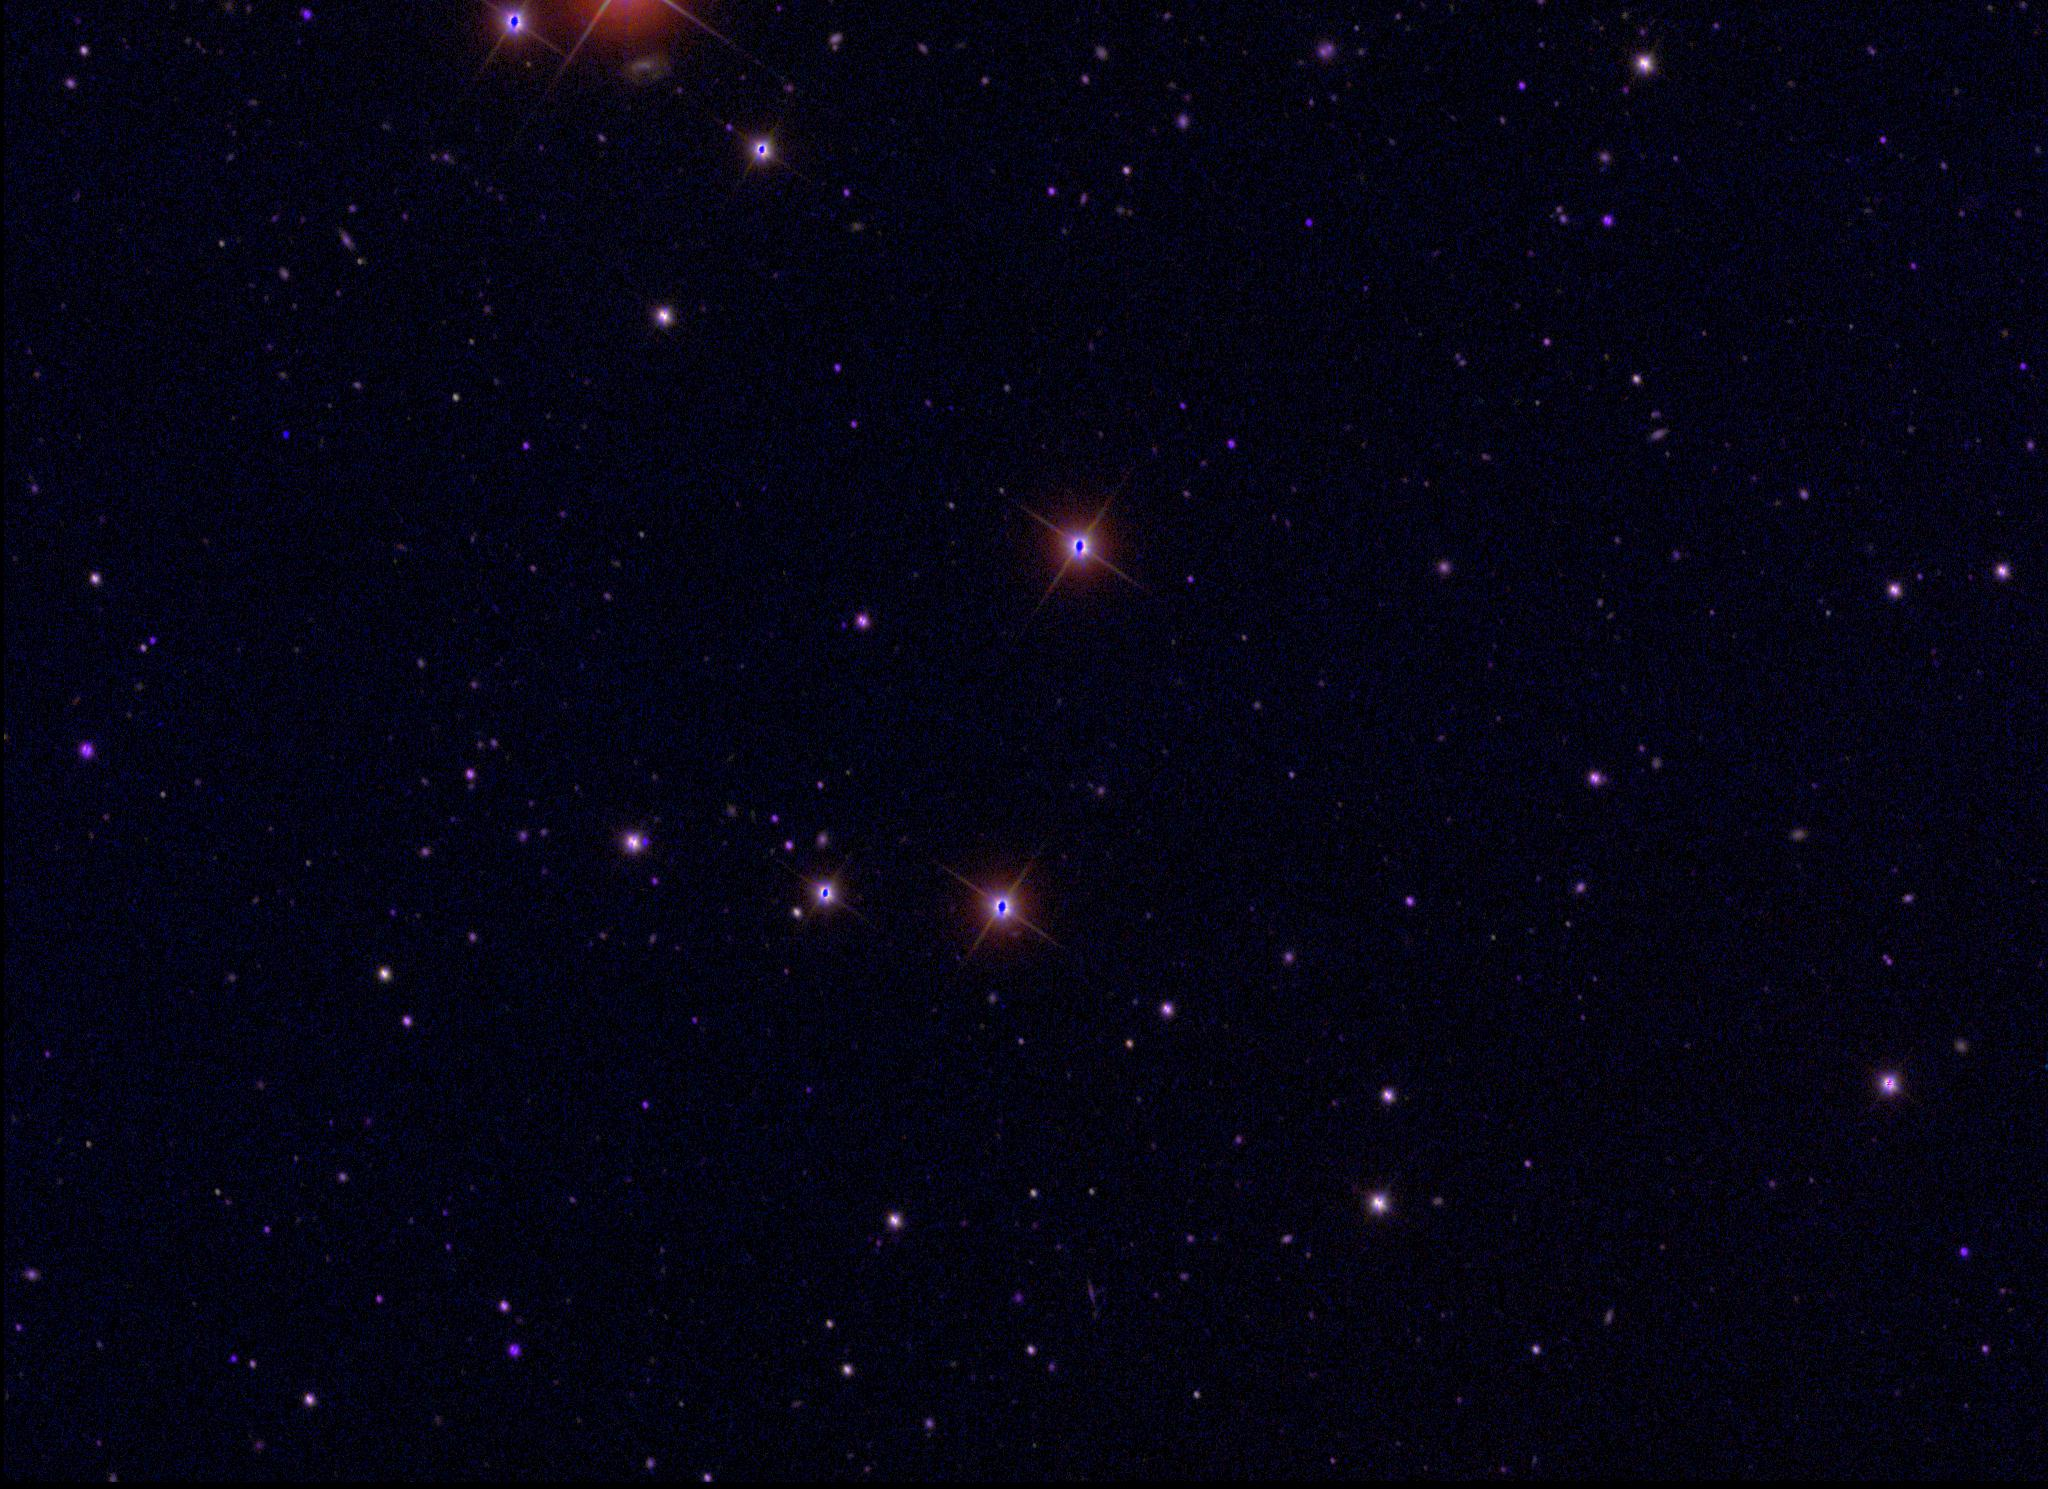L: (278, 428, 293, 442)
